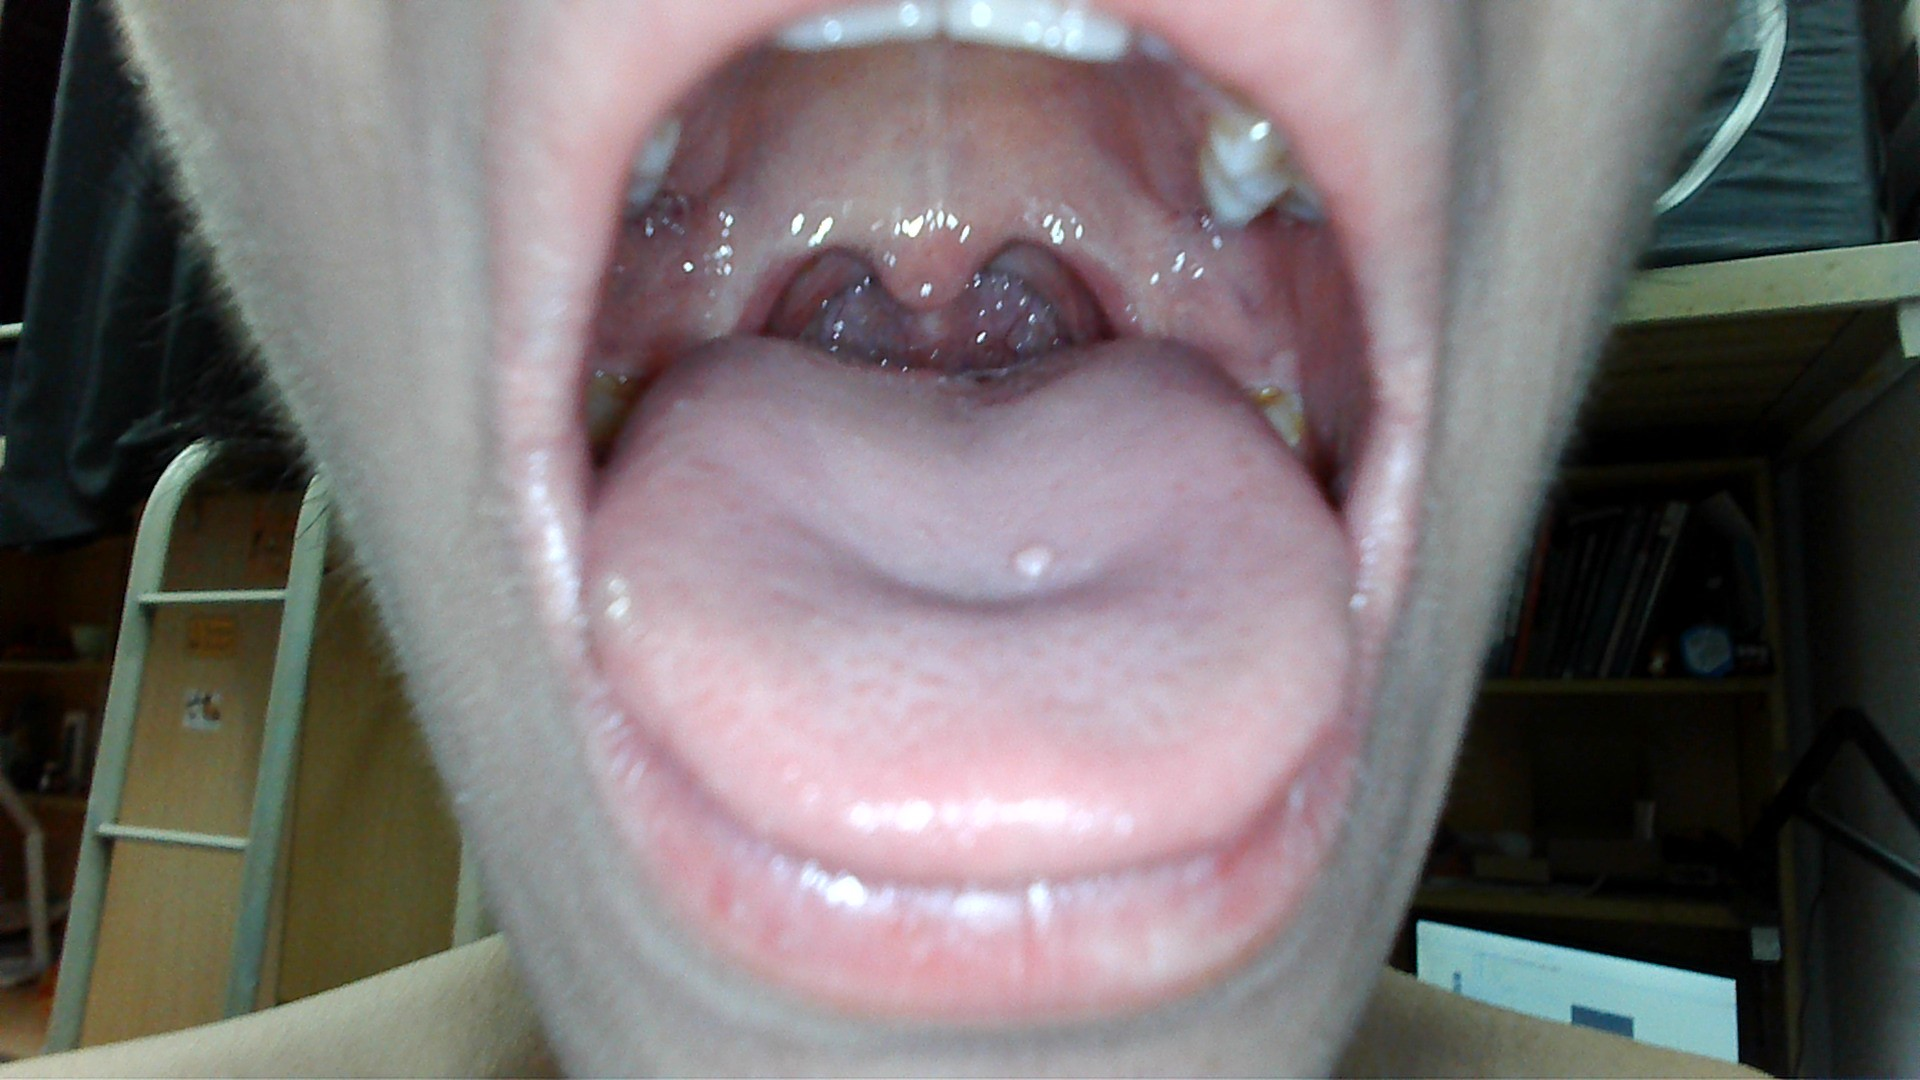throat: (1065, 216, 1162, 332), (723, 224, 794, 332)
